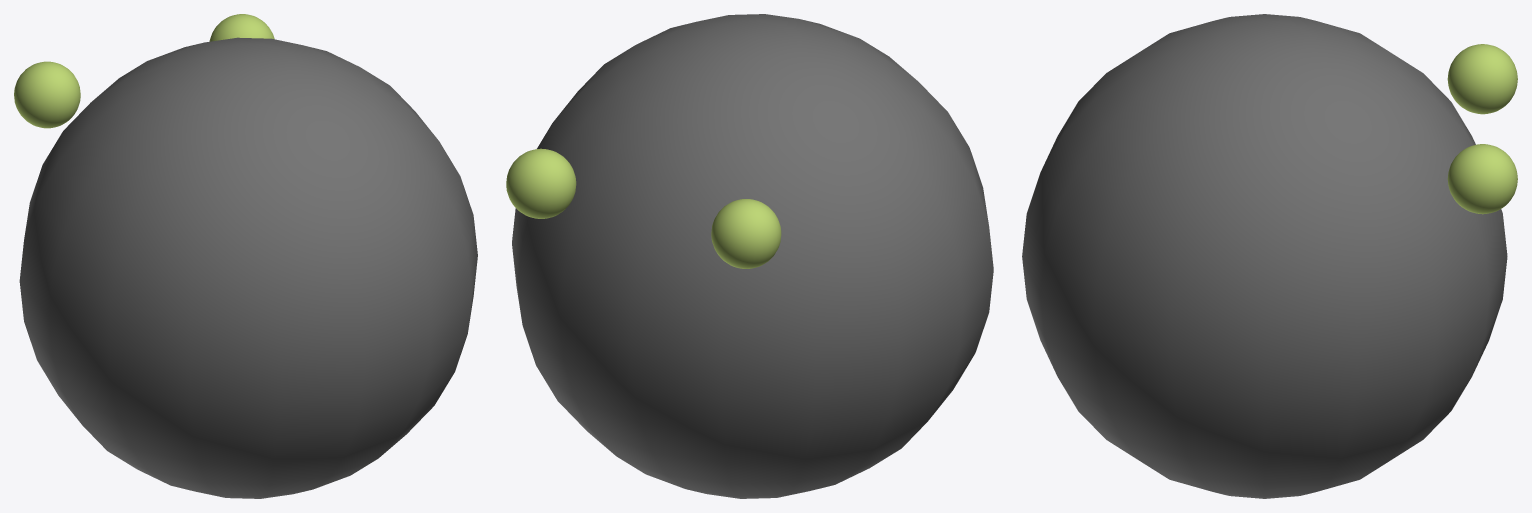
The model's file is SerpentHead.fbx.
The picture shows the model from 3 angles, left to right: view 1: azimuth 30°, elevation 25°; view 2: azimuth 150°, elevation 25°; view 3: azimuth 270°, elevation 25°; orthographic projection. The views are drawn at different scales.
Parts seen in each view (by area): view 1: Sphere, Sphere_001, Sphere_002; view 2: Sphere, Sphere_002, Sphere_001; view 3: Sphere, Sphere_001, Sphere_002.
Part boxes in pixels (x1=…): Sphere: x1=19, y1=37, x2=477, y2=498; Sphere_001: x1=14, y1=61, x2=80, y2=128; Sphere_002: x1=209, y1=14, x2=274, y2=41; Sphere: x1=512, y1=14, x2=993, y2=498; Sphere_002: x1=506, y1=148, x2=576, y2=218; Sphere_001: x1=711, y1=199, x2=781, y2=268; Sphere: x1=1022, y1=14, x2=1507, y2=498; Sphere_001: x1=1447, y1=44, x2=1517, y2=114; Sphere_002: x1=1447, y1=144, x2=1517, y2=214.
Size of the model in its own units: 2 by 2 by 2.04.
